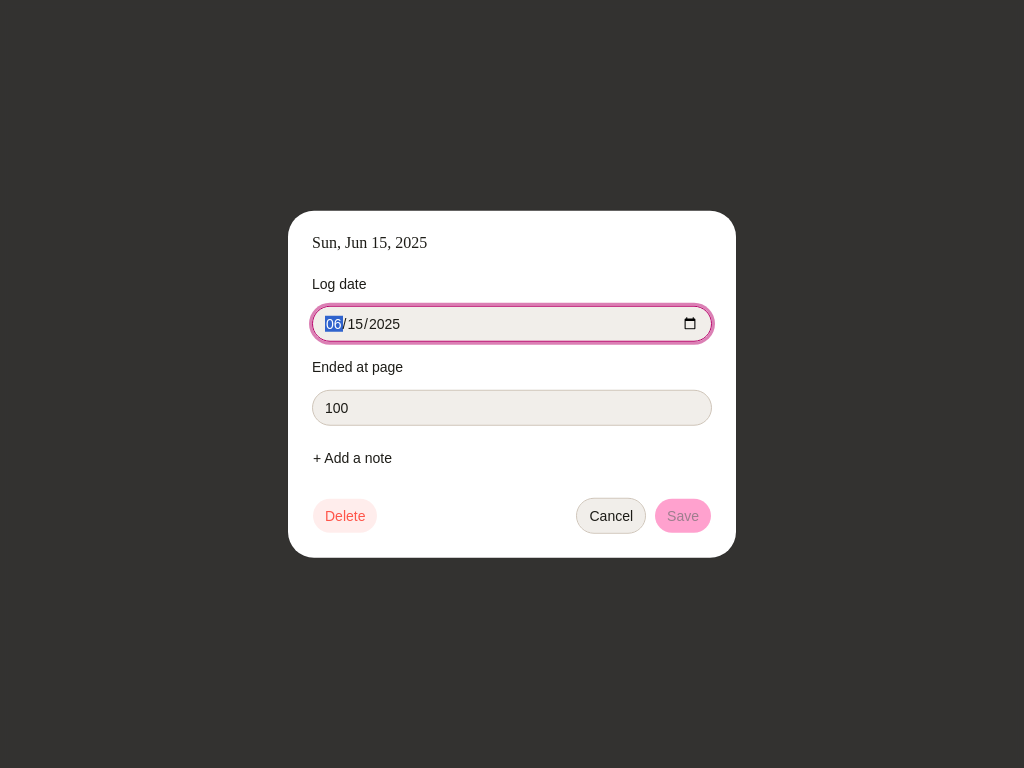
EntryEditSheet › enables Save from a note change alone
The image size is (1024, 768).
Click the button "+ Add a note".
click(352, 457)  # box [300, 441, 405, 473]
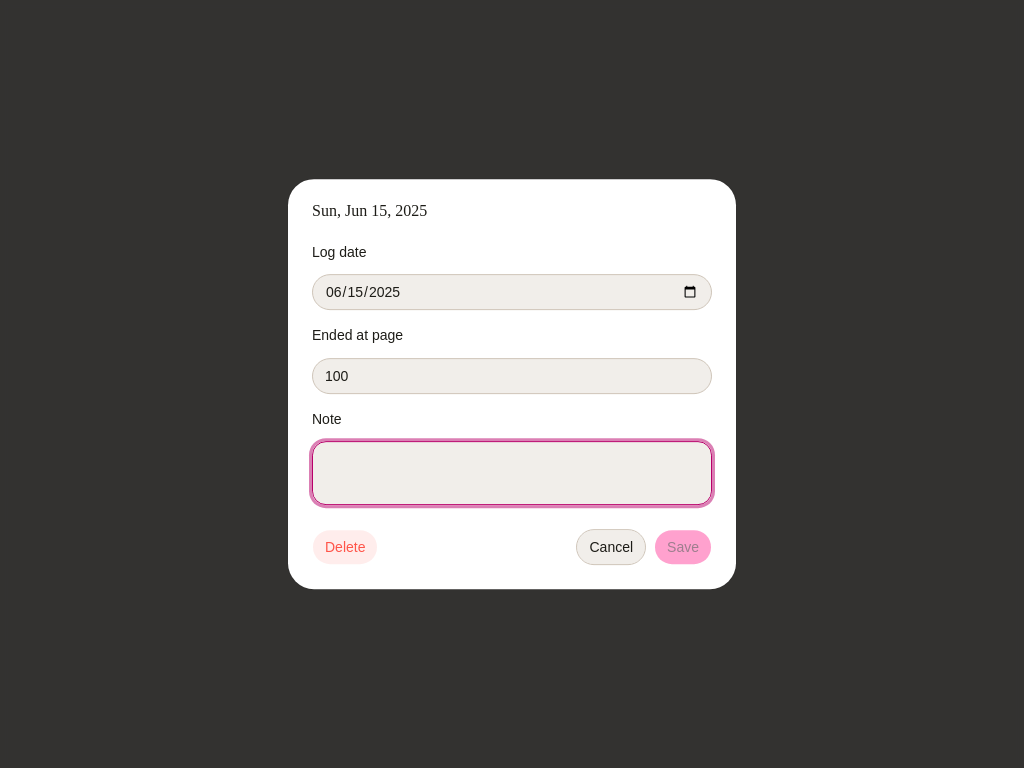
Type "A striking quote." into the text box labelled "Note".
click(512, 473); type("A striking quote.")  # box [312, 441, 712, 505]
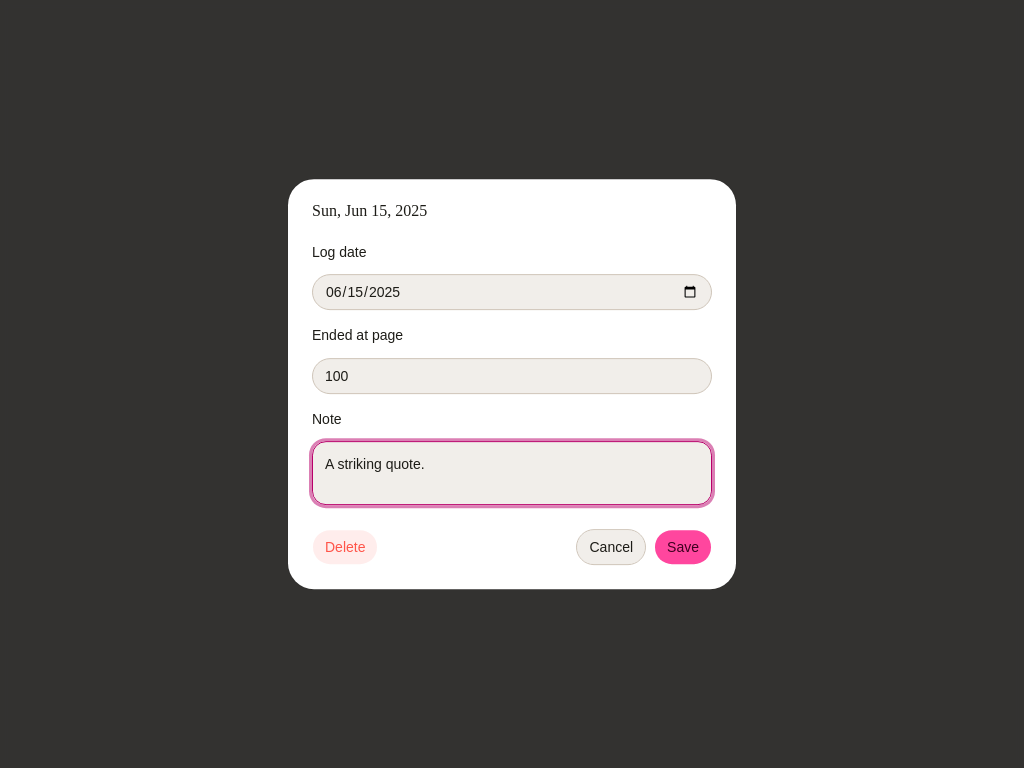
expect the button "Save" is enabled: met, box [654, 529, 712, 565]
